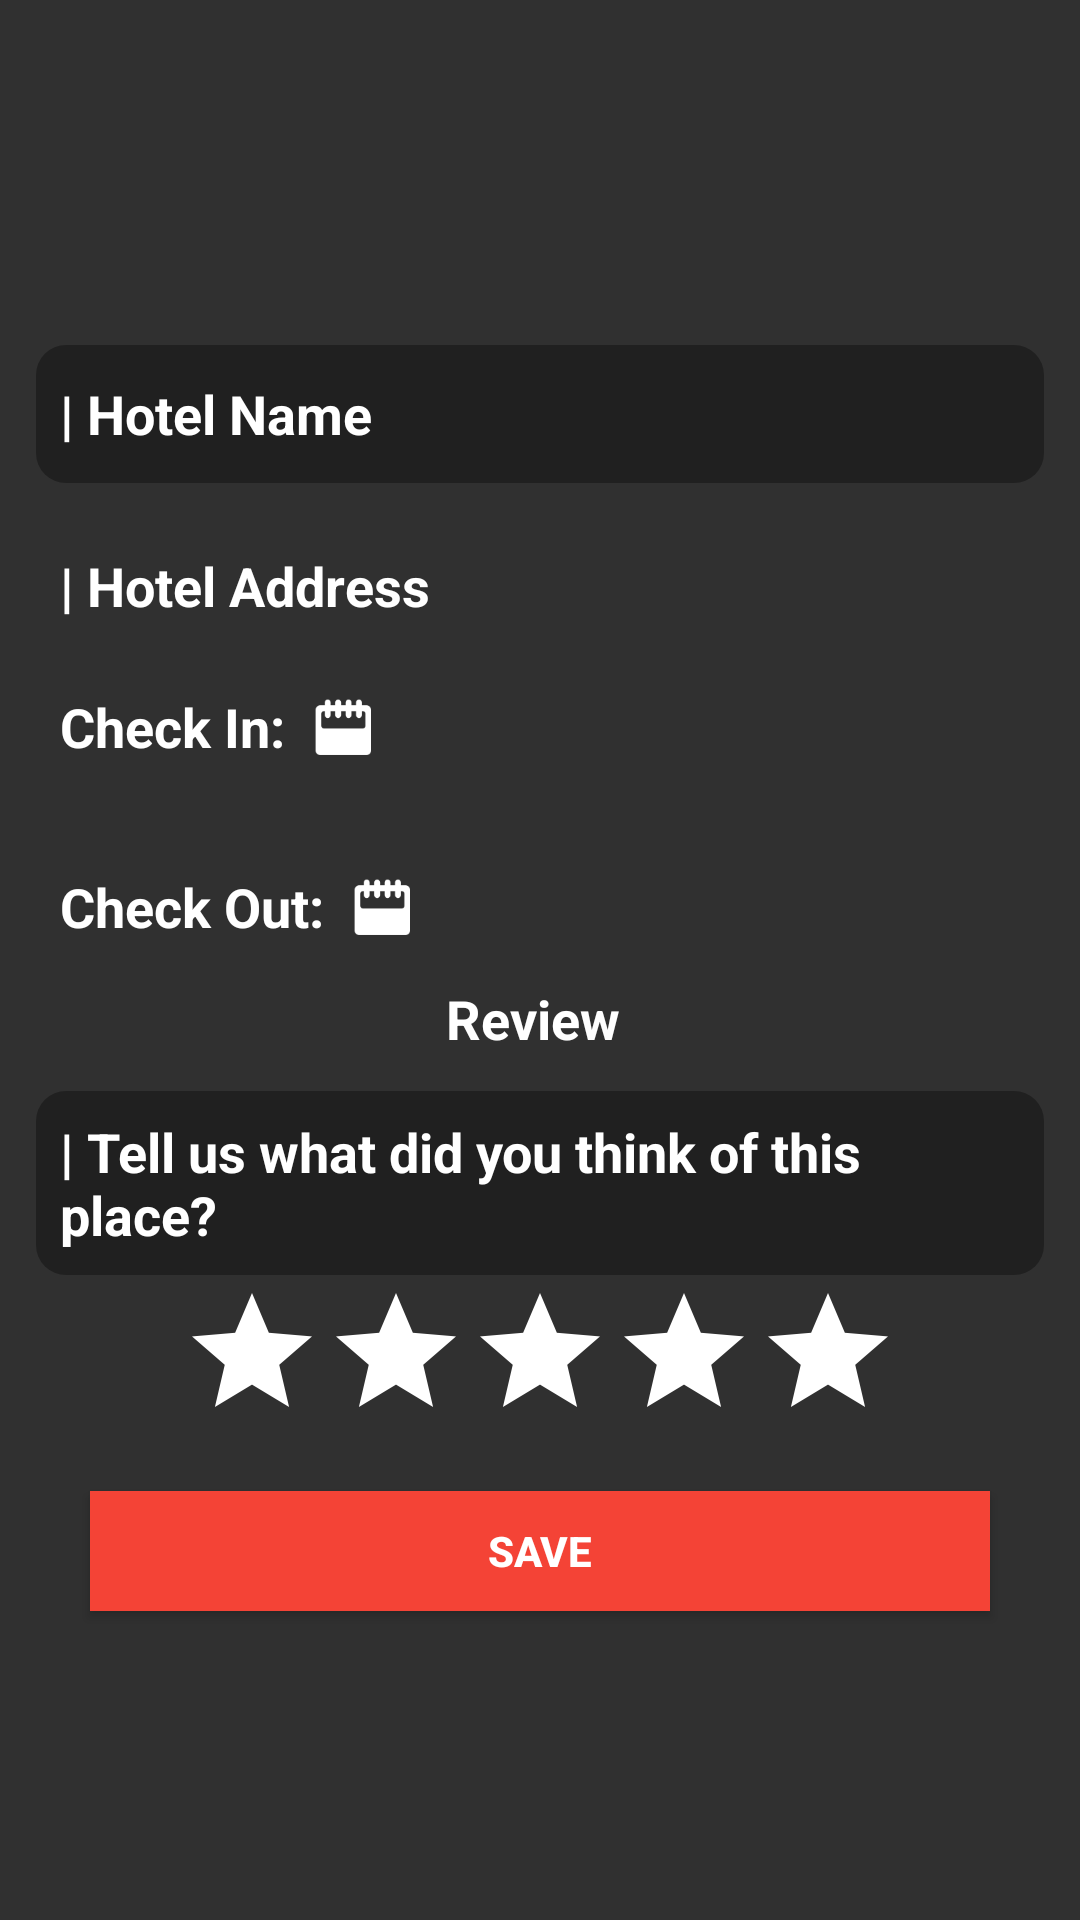

Point at icon controls on the screen. Image size 1080px x 1920px, points as (x,y).
calendar: (343,727), (382,907)
